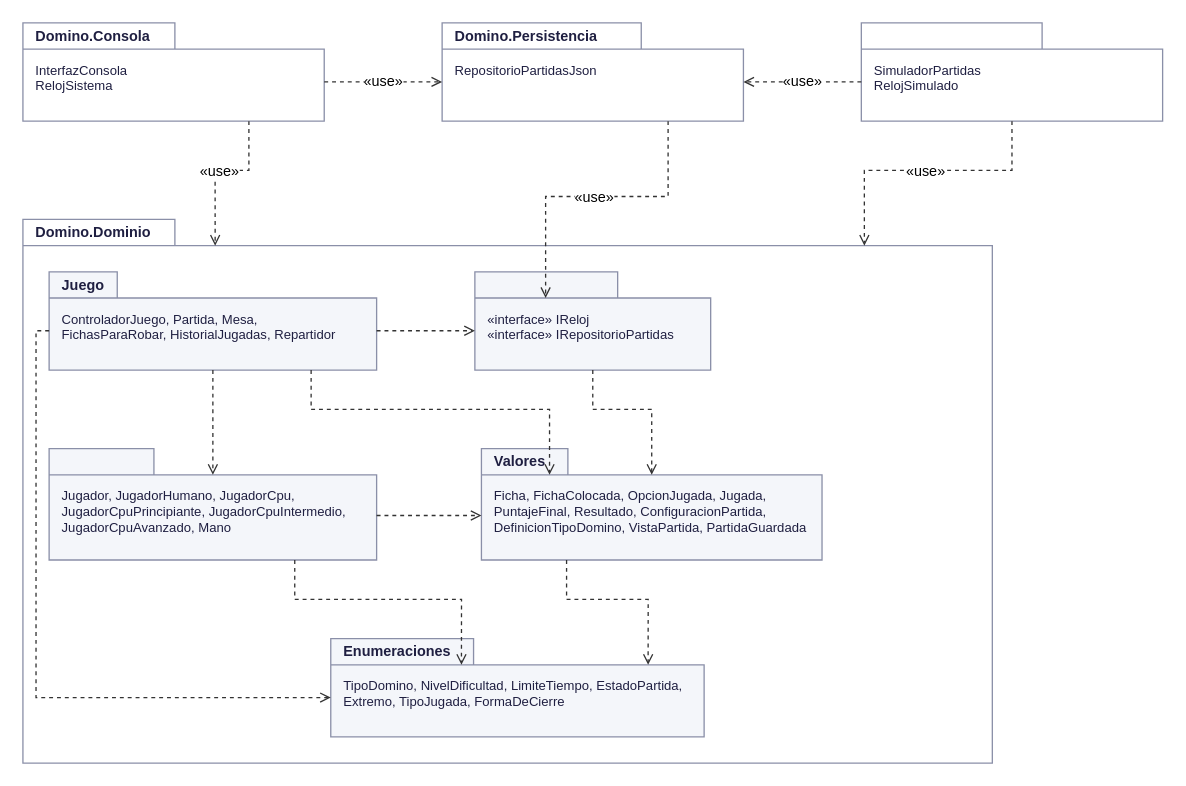
The diagram is 1186 pixels wide and 786 high, and some of its shapes have lost their labels. The box of each missing label's shape, as (x1, y1, x2, y2) in pixels:
Abstracciones: (474, 271, 711, 370)
Domino.Simulacion: (860, 22, 1163, 121)
Jugadores: (48, 447, 377, 560)
